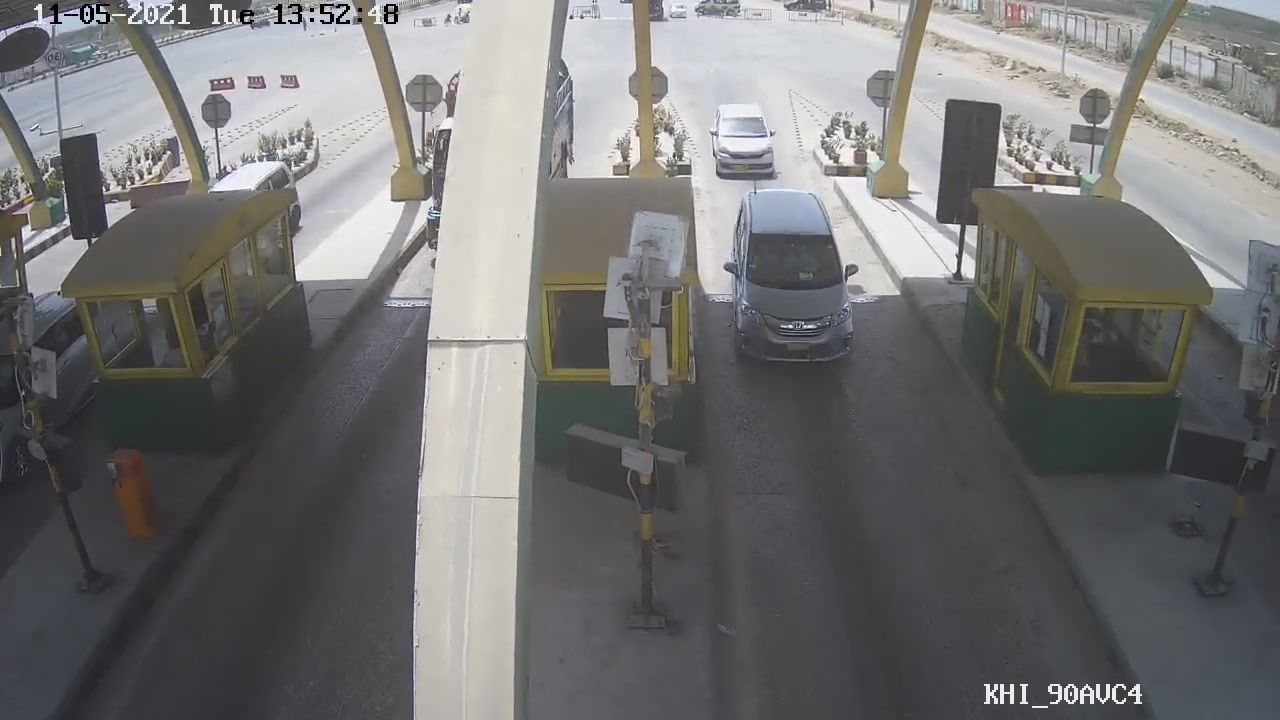F1: (715, 179, 866, 371)
